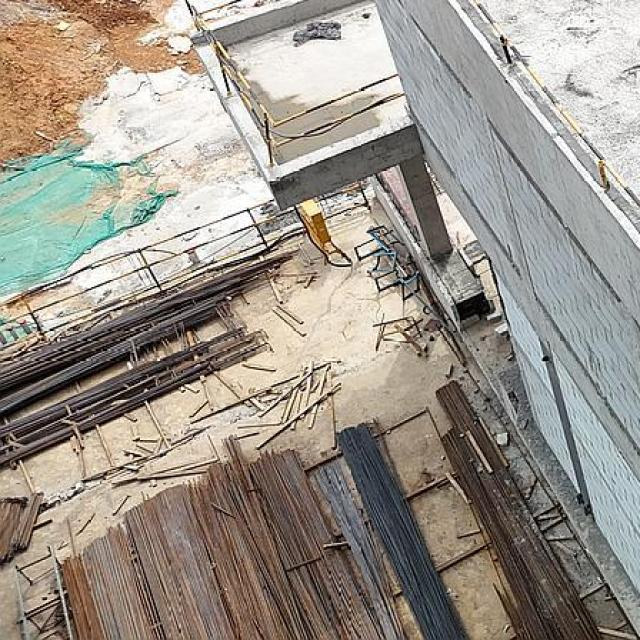edge_guardrail: (184, 0, 406, 167), (473, 0, 640, 209)
